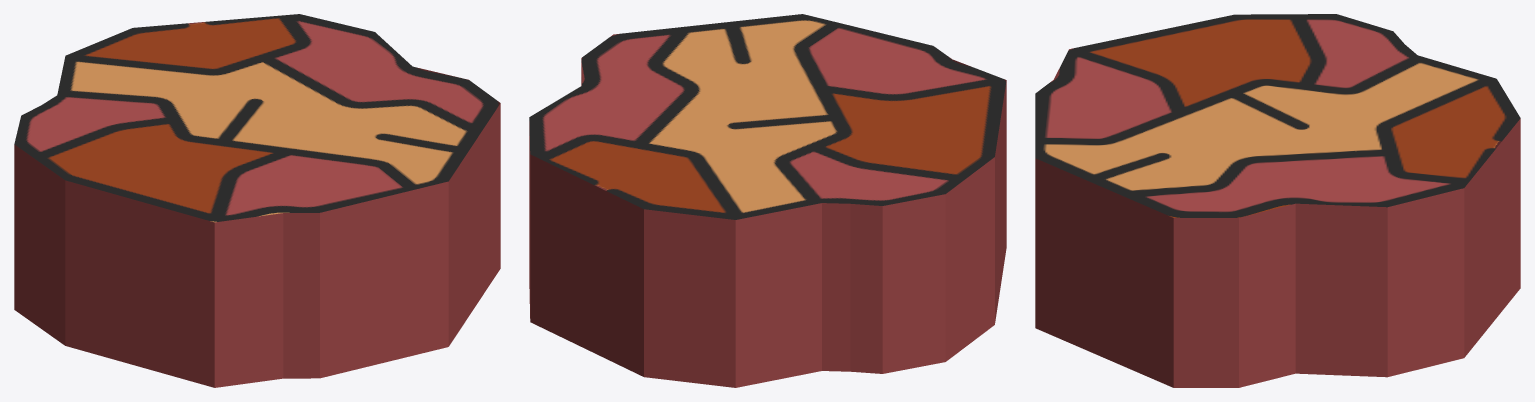
File: JunkTile.fbx
3 views of the same model, side by side, from view 1: azimuth 30°, elevation 25°; view 2: azimuth 150°, elevation 25°; view 3: azimuth 270°, elevation 25° (orthographic). The views are drawn at different scales.
Parts seen in each view (by area): view 1: Junk; view 2: Junk; view 3: Junk.
Boxes of the visible parts, x1,y1,x2,y2 form: Junk: (14,14,500,387); Junk: (529,14,1006,387); Junk: (1035,14,1520,387).
Bounding box in the file's own units: 486 × 189 × 488.
Materials: 1 (1 with a texture image).
